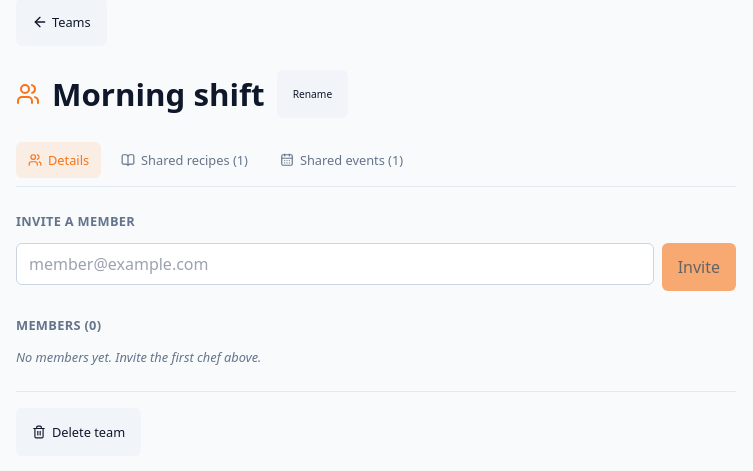
TeamDetail — tabs (T6) › Shared events tab shows only events whose sharedWithGroupIds includes this team
This screenshot has width=753, height=471.
Expected: the navigation bar with test id "team-detail-tabs" is shown, [16,142,736,187]
Click the tab with test id "team-detail-tab-events" at (342, 160), box [268,142,415,178]
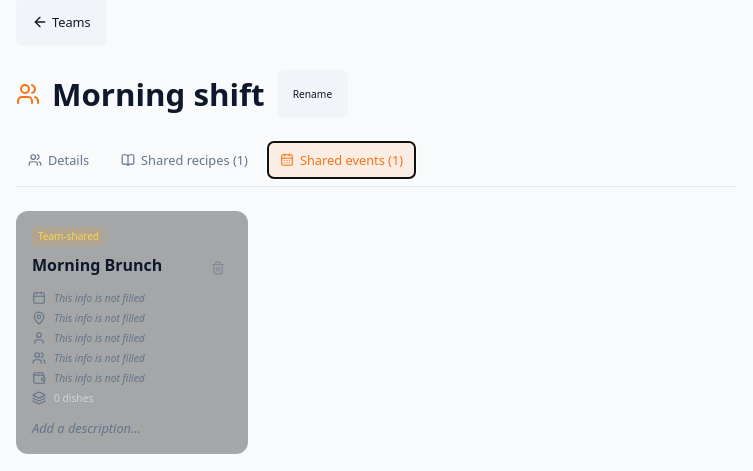
Expected: the element with test id "team-detail-shared-events" is shown, [16,211,248,454]
Expected: the link "Morning Brunch" is shown, [32,254,162,276]
